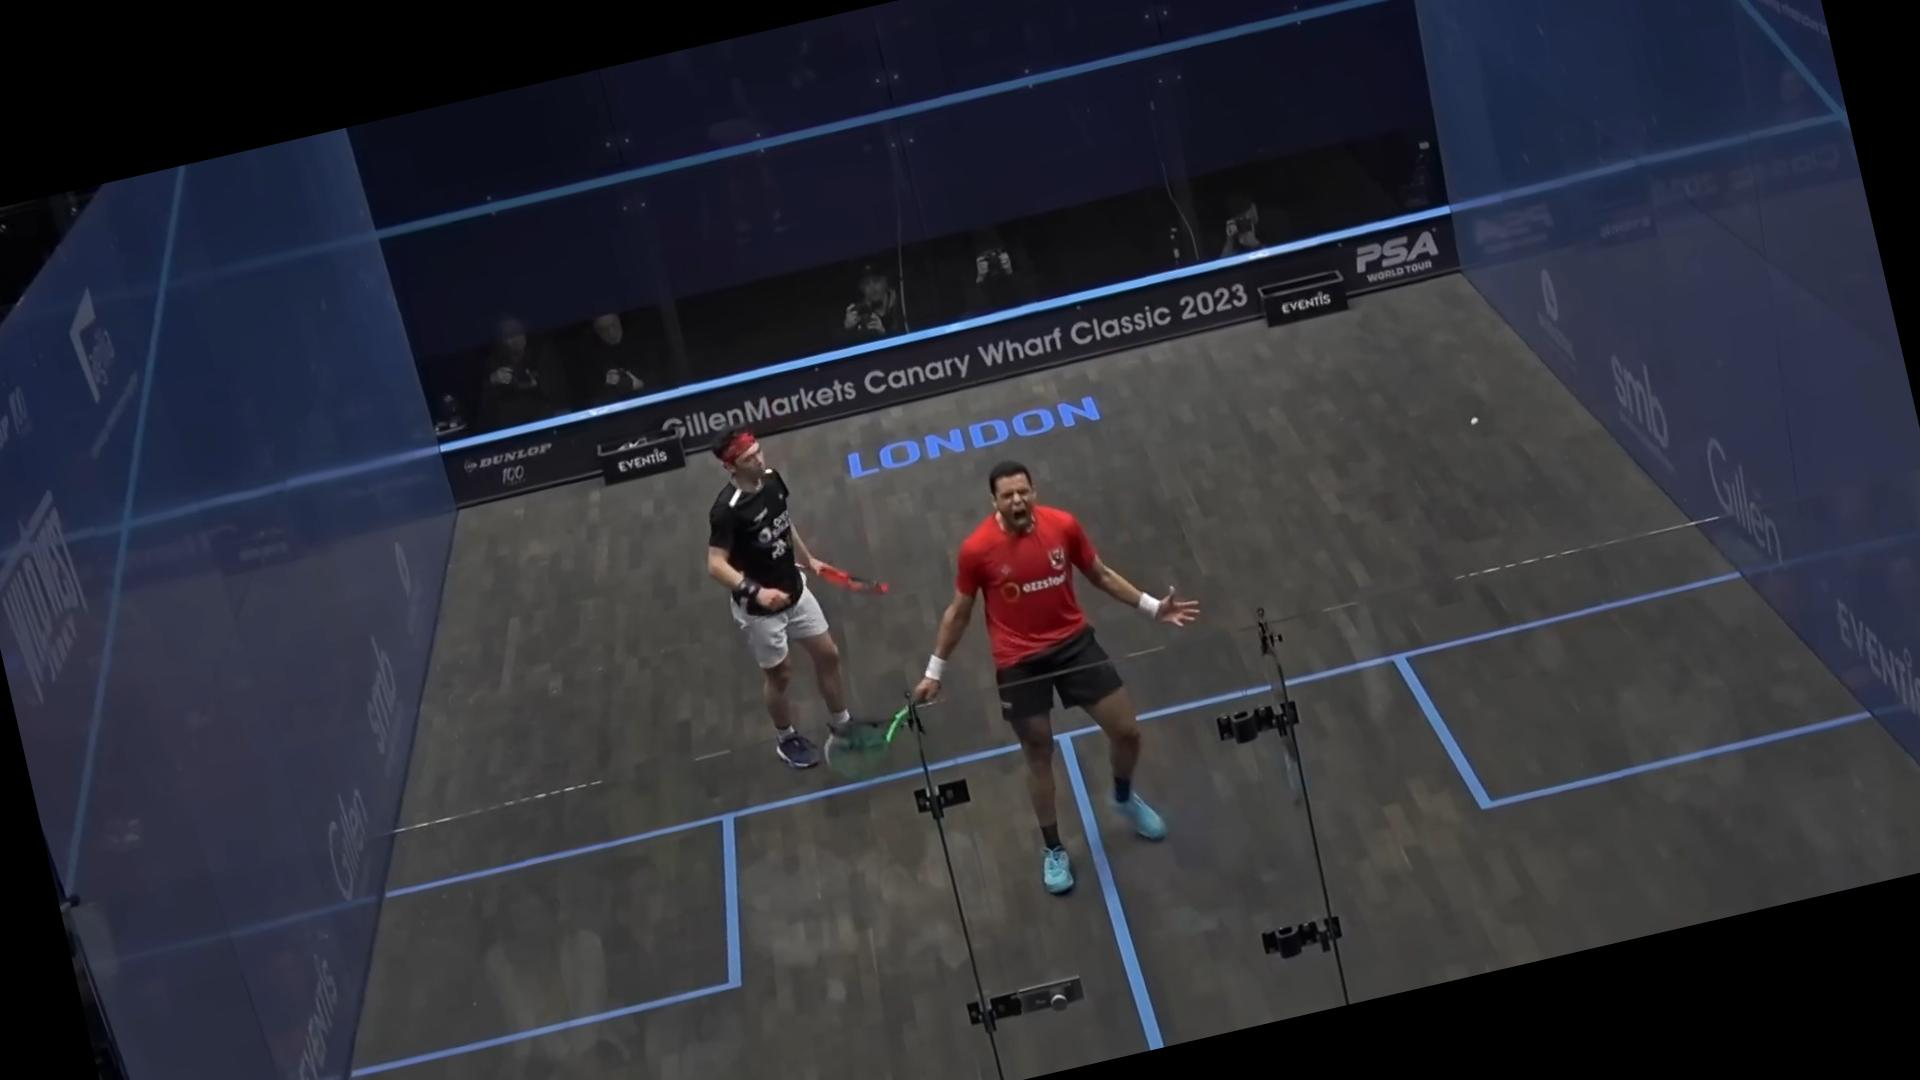Racket: (799, 702, 948, 800)
